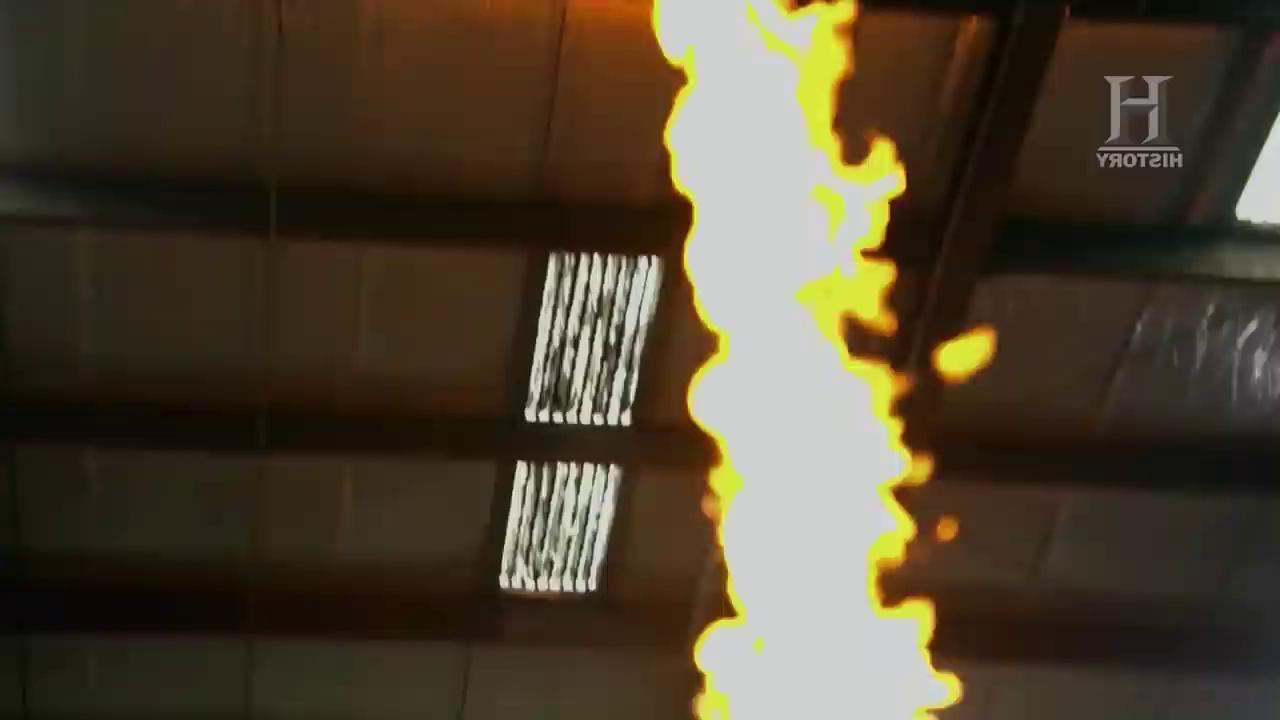Fire: (637, 6, 1001, 718)
